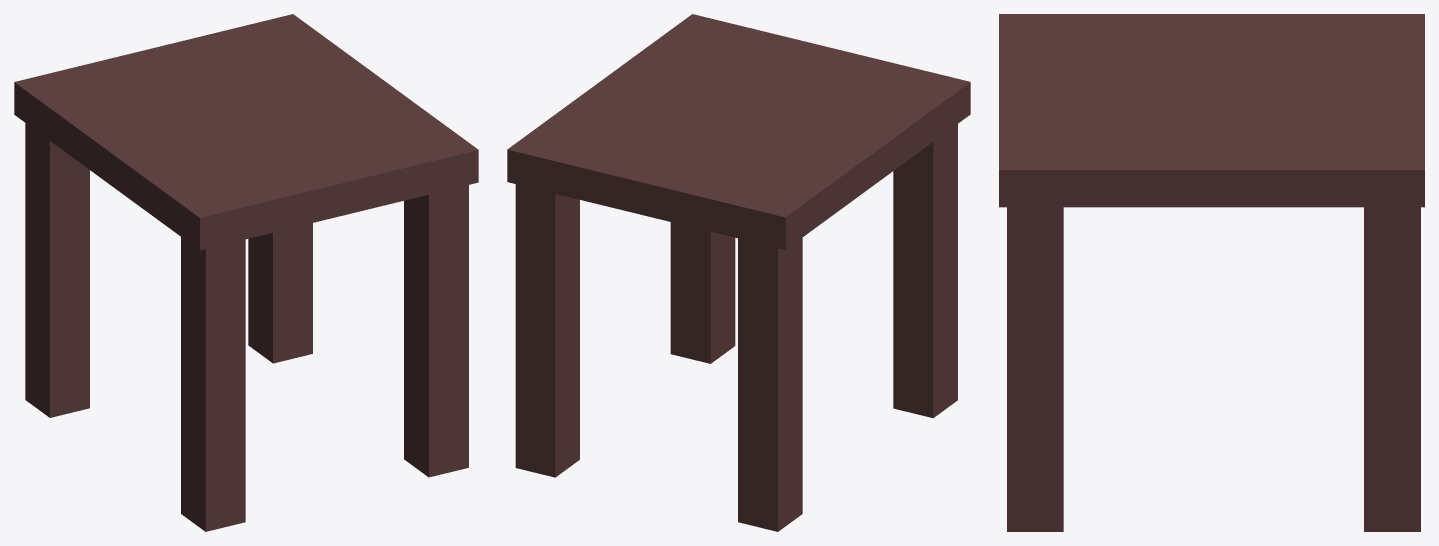
The model's file is table5.obj.
The picture shows the model from 3 angles, left to right: view 1: azimuth 30°, elevation 25°; view 2: azimuth 150°, elevation 25°; view 3: azimuth 270°, elevation 25°; orthographic projection. The views are drawn at different scales.
Visible parts, largest first — view 1: table5; view 2: table5; view 3: table5.
Boxes of the visible parts, x1=… form: table5: x1=14, y1=14, x2=478, y2=531; table5: x1=507, y1=14, x2=970, y2=531; table5: x1=999, y1=14, x2=1424, y2=531.
Size of the model in its own units: 0.4371 by 0.4773 by 0.5039.
